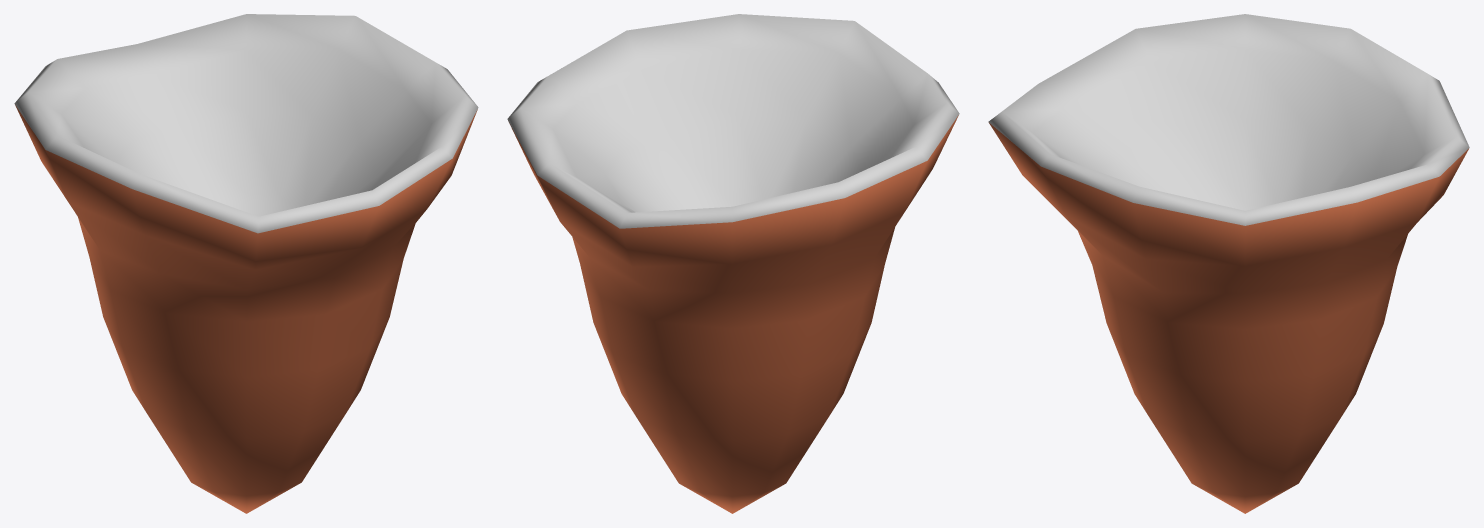
The model's file is MushroomCap2.fbx.
3 renders of one model, left to right at view 1: azimuth 30°, elevation 25°; view 2: azimuth 150°, elevation 25°; view 3: azimuth 270°, elevation 25°, orthographic. The views are drawn at different scales.
Parts seen in each view (by area): view 1: Sphere.002; view 2: Sphere.002; view 3: Sphere.002.
Part boxes in pixels (bbox=[...]): Sphere.002: bbox=[14, 14, 478, 513]; Sphere.002: bbox=[507, 14, 959, 513]; Sphere.002: bbox=[988, 14, 1469, 513].
Size of the model in its own units: 17.88 by 18.05 by 19.18.
